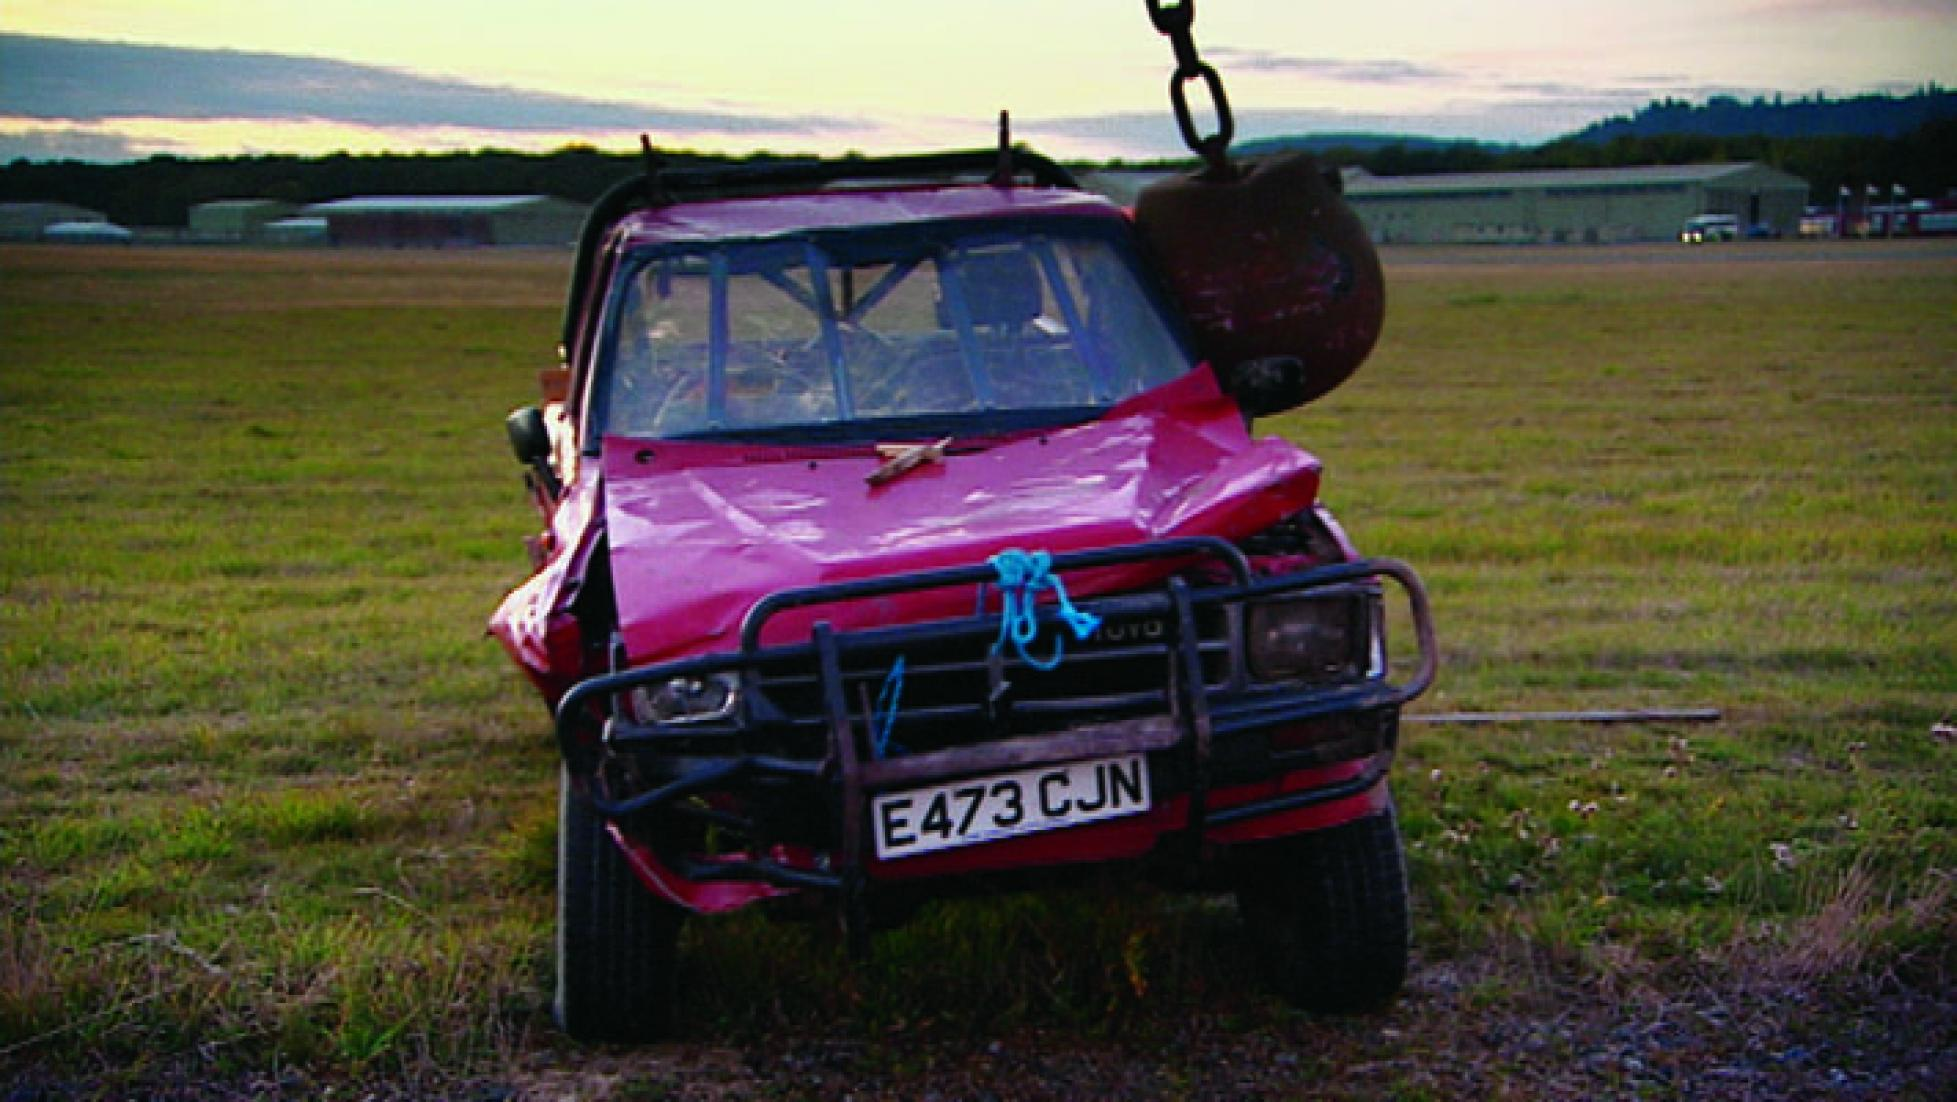tablica: (872, 749, 1140, 861)
